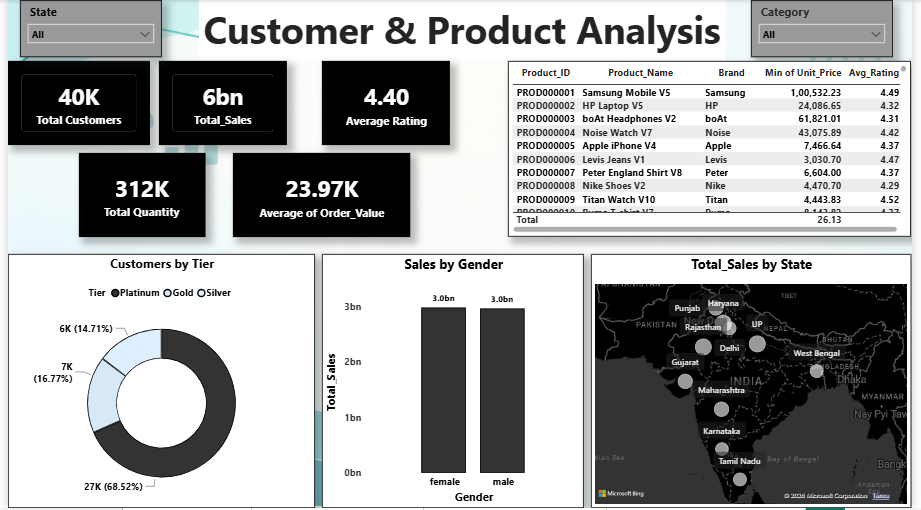

This screenshot's page, from the dashboard's own definition file:
{"tool":"powerbi","page":{"name":"Customer & Product Analysis","canvas":[1280,720],"ordinal":3},"visuals":[{"type":"textbox","box":[270.7,0,745.5,86.5],"z":0},{"type":"cardVisual","fields":{"Data":["FactSales.Total Customers"]},"box":[0,86.5,201.3,119.1],"z":1000},{"type":"cardVisual","fields":{"Data":["FactSales.Total_Sales"]},"box":[214,86.5,181.4,119.1],"z":2000},{"type":"cardVisual","fields":{"Data":["FactSales.Average Rating"]},"box":[445,86.5,181.4,119.1],"z":3000},{"type":"cardVisual","fields":{"Data":["FactSales.Total Quantity"]},"box":[100.6,216.9,178.6,119.1],"z":4000},{"type":"cardVisual","fields":{"Data":["Avg(FactSales.Order_Value)"]},"box":[318.9,216.9,250.9,119.1],"z":5000},{"type":"donutChart","title":"Customers by Tier","fields":{"Y":["FactSales.Total Customers"],"Category":["DimCustomers.Customer_Tier"]},"box":[0,360,435.1,360],"z":6000},{"type":"columnChart","title":"Sales by Gender","fields":{"Y":["FactSales.Total_Sales"],"Category":["DimCustomers.Gender"]},"box":[445,360,371.3,360],"z":7000},{"type":"map","fields":{"Category":["DimCustomers.State"],"Size":["FactSales.Total_Sales"]},"box":[826.3,360,453.5,360],"z":8000},{"type":"slicer","fields":{"Values":["DimCustomers.State"]},"box":[17,0,201.3,80.8],"z":9000},{"type":"slicer","fields":{"Values":["DimProducts.Category"]},"box":[1053.1,0,201.3,80.8],"z":10000},{"type":"tableEx","fields":{"Values":["DimProducts.Product_ID","DimProducts.Product_Name","DimProducts.Brand","Min(FactSales.Unit_Price)","DimProducts.Avg_Rating"]},"box":[708.7,86.5,571.2,249.4],"z":11000}]}

Visuals, with their boxes in screenshot pixels (x1, y1, x2, y2), scaled from the page's 1280x720 canvas onto the 921x510 screenshot:
textbox: detection(195, 0, 731, 61)
cardVisual - FactSales.Total Customers: detection(0, 61, 145, 146)
cardVisual - FactSales.Total_Sales: detection(154, 61, 285, 146)
cardVisual - FactSales.Average Rating: detection(320, 61, 451, 146)
cardVisual - FactSales.Total Quantity: detection(72, 154, 201, 238)
cardVisual - Avg(FactSales.Order_Value): detection(229, 154, 410, 238)
"Customers by Tier" donutChart: detection(0, 255, 313, 509)
"Sales by Gender" columnChart: detection(320, 255, 587, 509)
map - DimCustomers.State x FactSales.Total_Sales: detection(595, 255, 920, 509)
slicer - DimCustomers.State: detection(12, 0, 157, 57)
slicer - DimProducts.Category: detection(758, 0, 903, 57)
tableEx - DimProducts.Product_ID x DimProducts.Product_Name: detection(510, 61, 920, 238)
